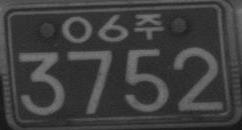0: (60, 14, 93, 44)
2: (173, 46, 223, 112)
3: (18, 50, 66, 116)
5: (124, 48, 168, 113)
6: (97, 14, 129, 43)
7: (67, 49, 113, 115)
주: (134, 13, 164, 40)
